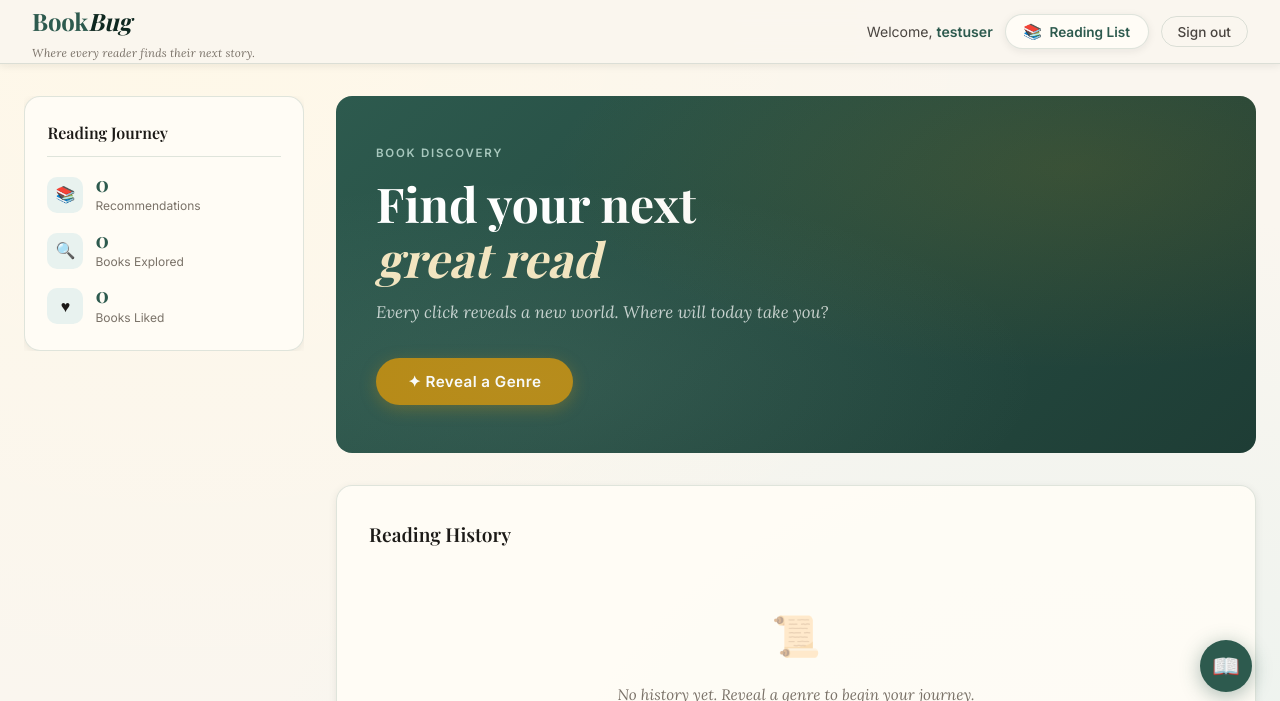
Scenario: reveals genre and recommended books after login
Click the button "✦ Reveal a Genre" at point(475, 382), box [376,358,573,405]
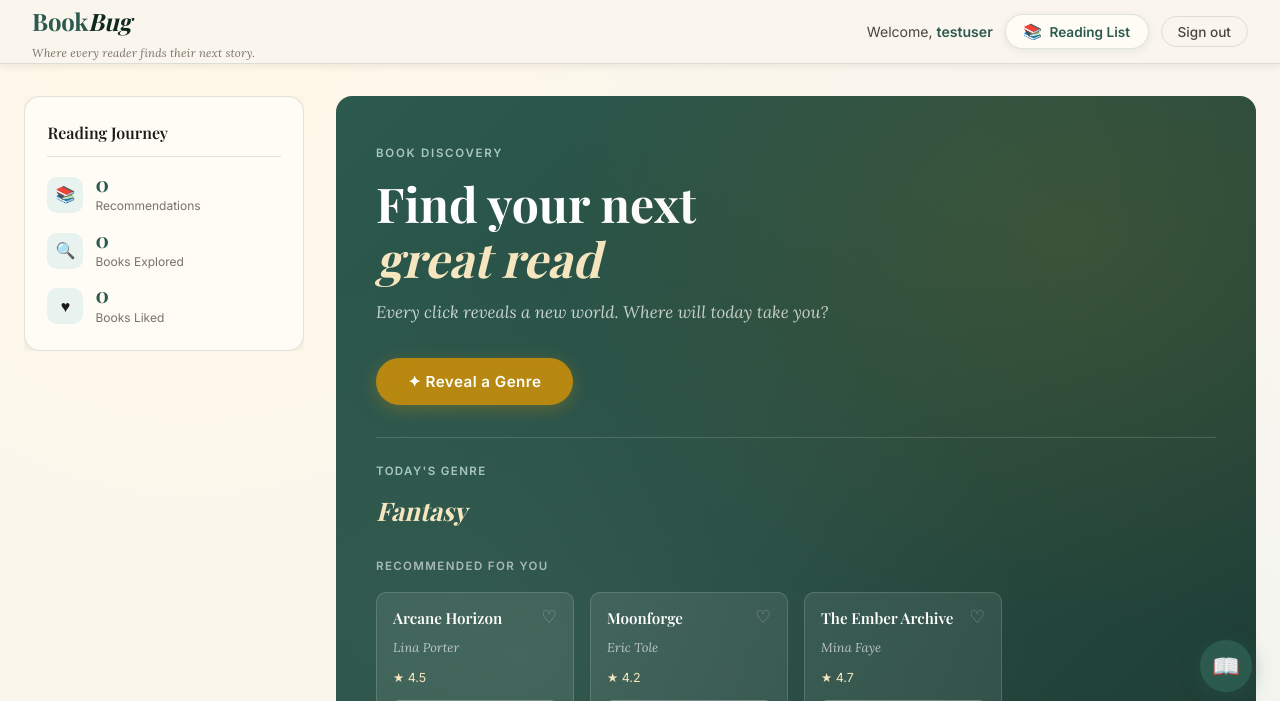
Expected: the text "fantasy" is shown, [376,489,467,533]
Expected: the heading "Arcane Horizon" is shown, [393,608,502,628]
